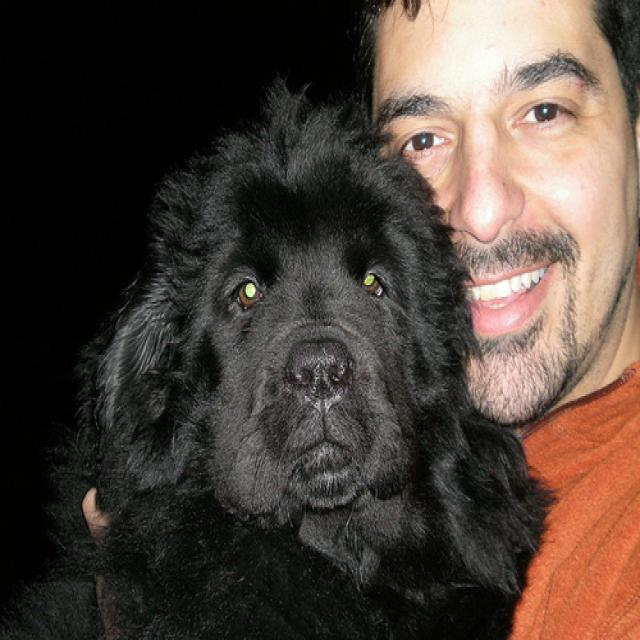dog: (108, 121, 468, 526)
